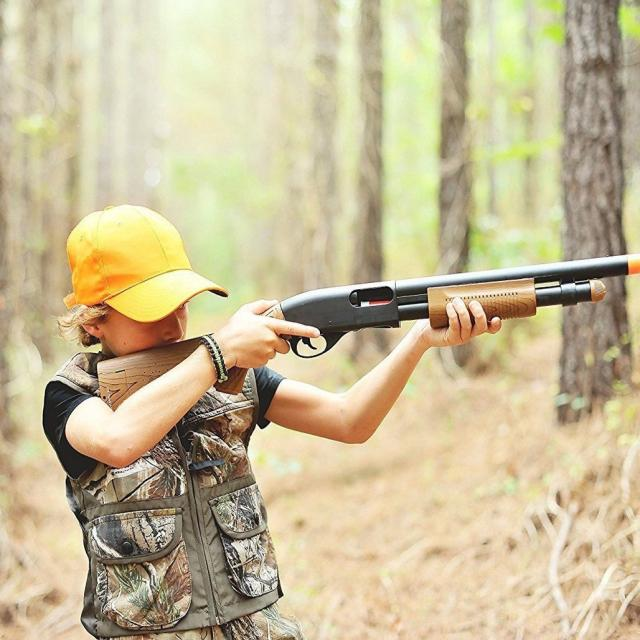ShotGun: (96, 255, 629, 410)
